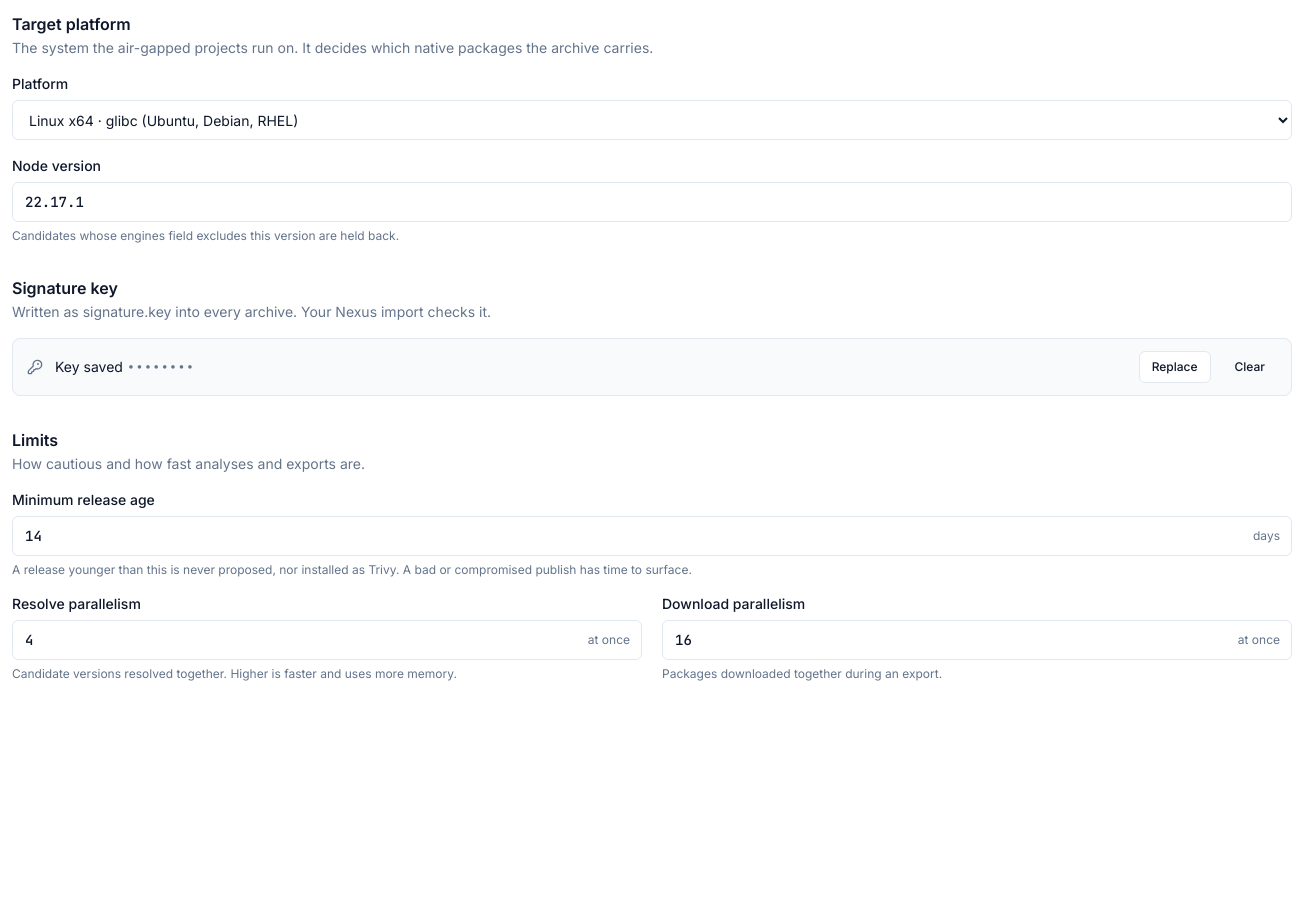
Test case: SettingsForm › shows Save and Discard only once something changes, and Discard restores
Replace the text in the field labelled "Node version" with "20.11.0": (652, 202) [12, 182, 1292, 222]
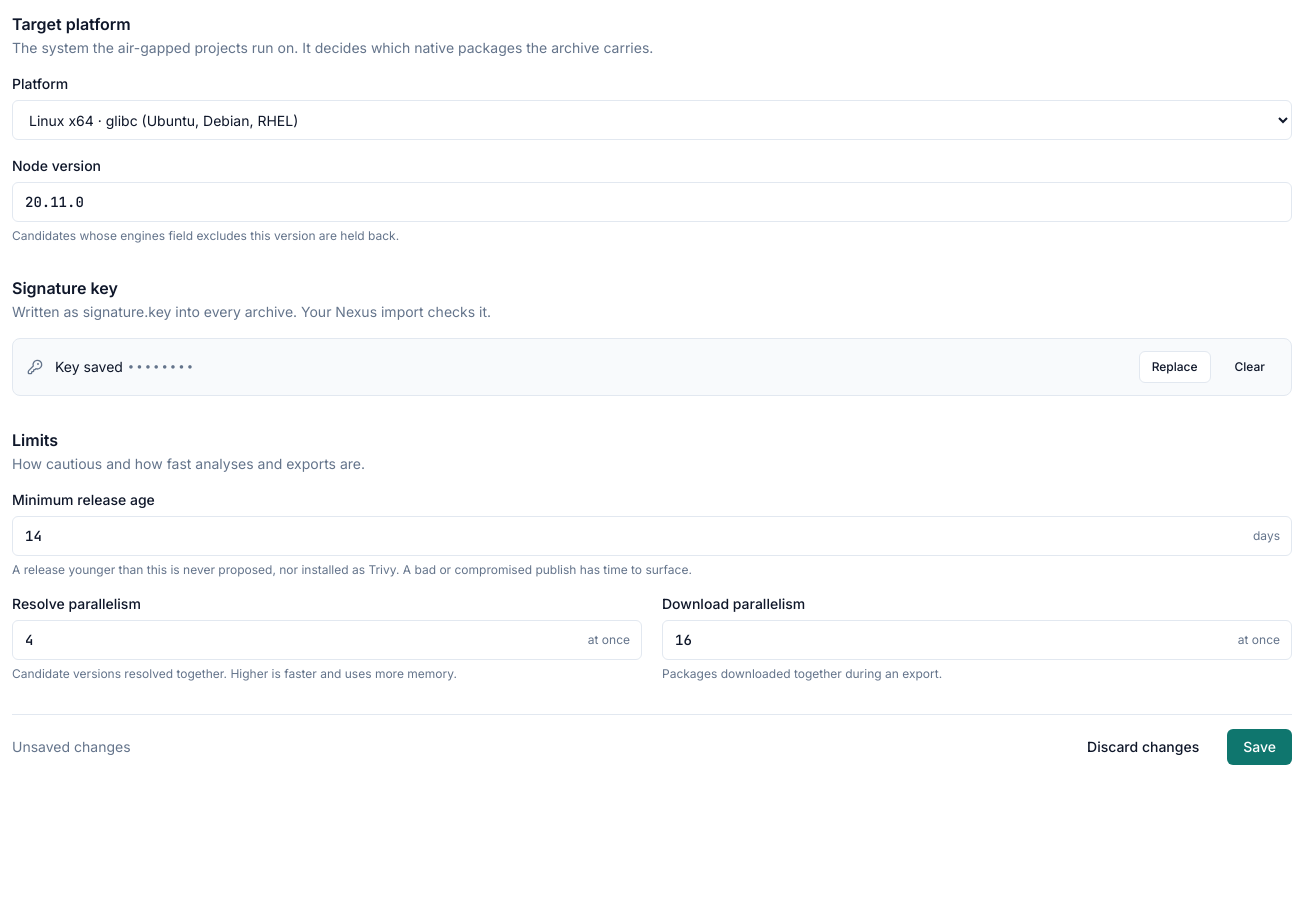
Result: the button "Save" is enabled at [1227, 729, 1292, 765]
Click the button "Discard changes": click(1143, 747) [1071, 729, 1215, 765]
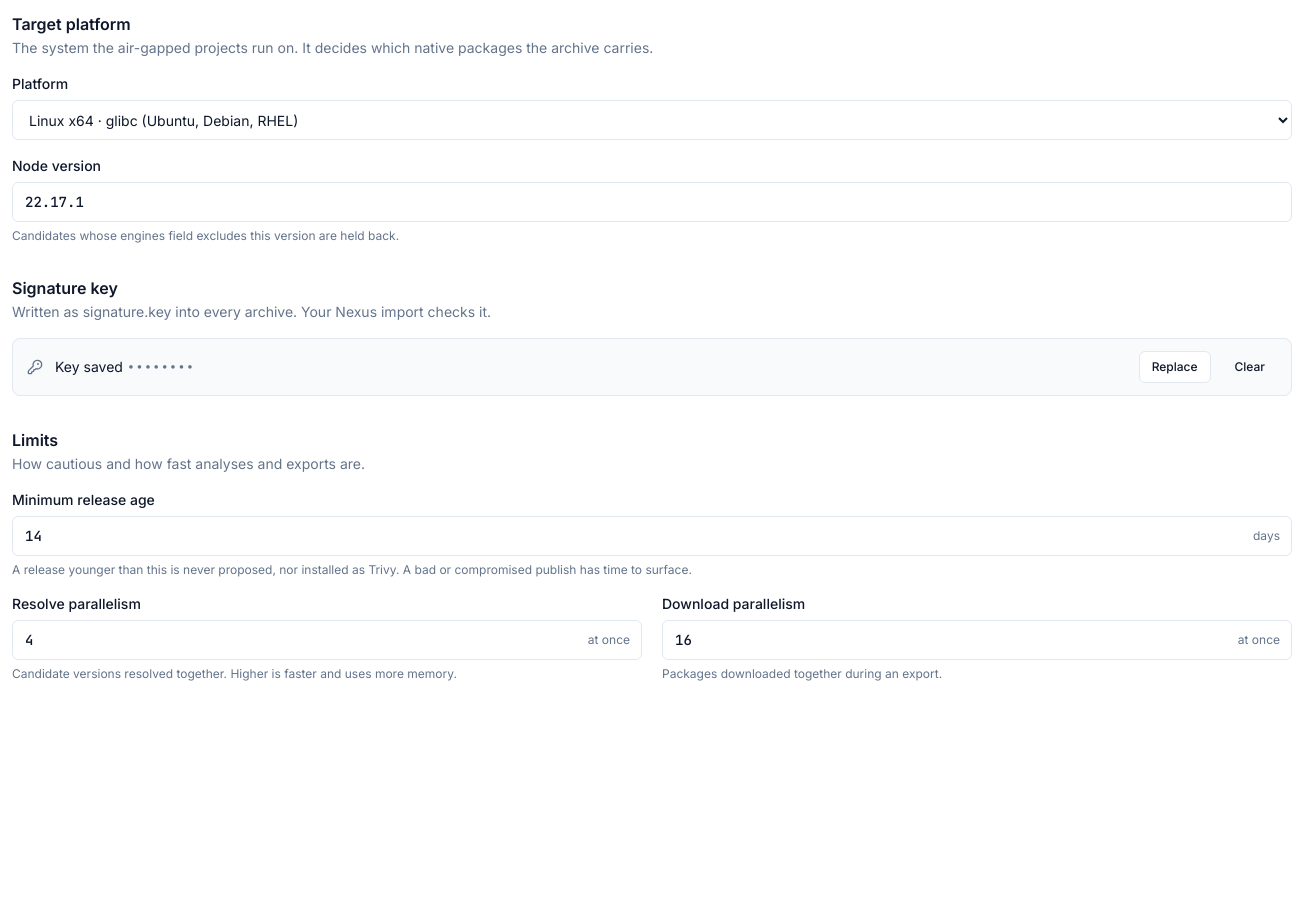
Result: the field labelled "Node version" holds "22.17.1" at [12, 182, 1292, 222]
